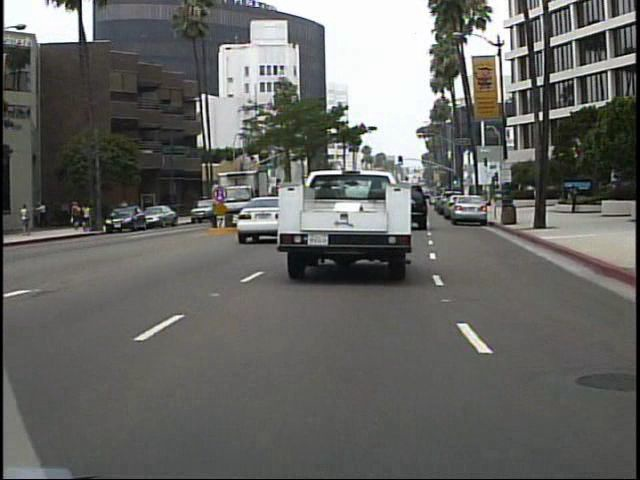person: (20, 199, 34, 238), (565, 181, 580, 215)
